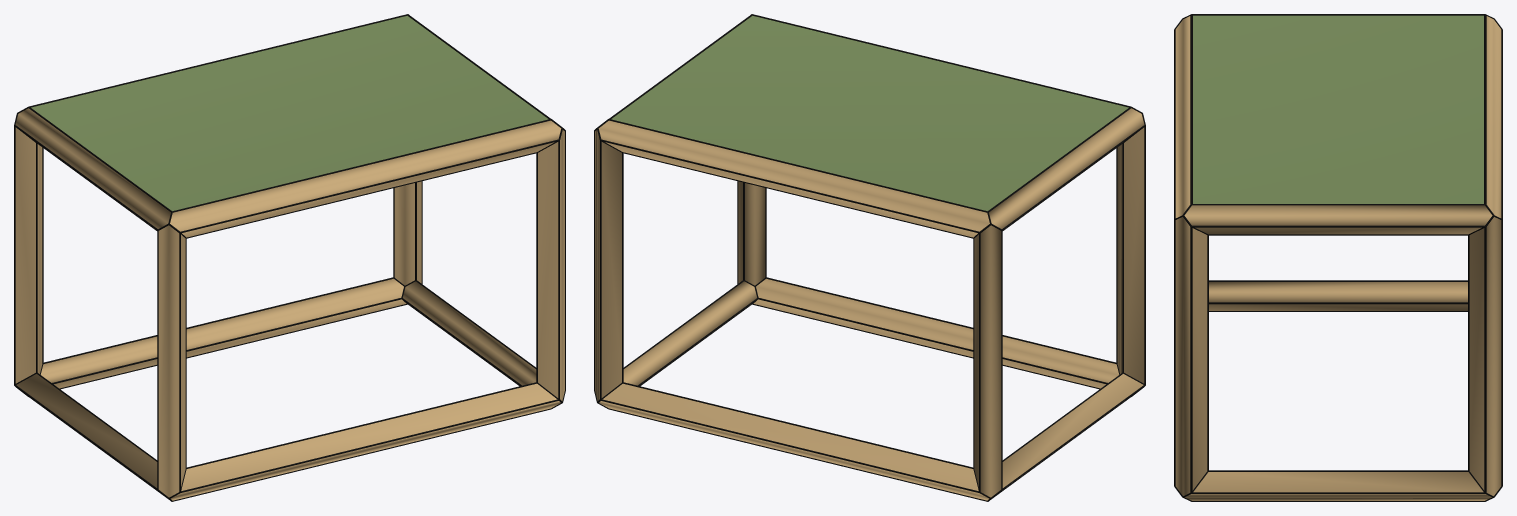
Rendered from 010-coffre.glb.
3 views of the same model, side by side, from view 1: azimuth 30°, elevation 25°; view 2: azimuth 150°, elevation 25°; view 3: azimuth 270°, elevation 25° (orthographic). The views are drawn at different scales.
Parts seen in each view (by area): view 1: panneau-dessus_exterieur, arete-X2, arete-X0, arete-X1, arete-Z0, arete-Z2, arete-Z1, arete-Y2, arete-Y0, arete-Y1, arete-Z3, arete-wire-X0 (+9 smaller); view 2: panneau-dessus_exterieur, arete-X3, arete-X1, arete-X0, arete-Z2, arete-Z0, arete-Z3, arete-Y2, arete-Y0, arete-Y1, arete-Z1, arete-wire-X1 (+9 smaller); view 3: panneau-dessus_exterieur, arete-Y3, arete-Z1, arete-Z3, arete-Y1, arete-Y0, arete-X2, arete-X3, arete-wire-Y3, arete-wire-Z1, arete-wire-Z3, arete-wire-Y0 (+4 smaller).
Boxes of the visible parts, <box> form: panneau-dessus_exterieur: <box>31,15,548,211</box>; arete-X2: <box>170,120,561,237</box>; arete-X0: <box>170,383,560,500</box>; arete-X1: <box>40,278,406,388</box>; arete-Z0: <box>158,225,185,497</box>; arete-Z2: <box>15,127,42,383</box>; arete-Z1: <box>538,130,564,400</box>; arete-Y2: <box>15,108,170,228</box>; arete-Y0: <box>16,374,157,487</box>; arete-Y1: <box>403,281,536,385</box>; arete-Z3: <box>394,181,421,285</box>; arete-wire-X0: <box>168,382,562,501</box>; panneau-dessus_exterieur: <box>611,15,1128,211</box>; arete-X3: <box>598,120,989,237</box>; arete-X1: <box>599,383,989,500</box>; arete-X0: <box>753,278,1119,388</box>; arete-Z2: <box>974,225,1001,497</box>; arete-Z0: <box>1117,127,1144,383</box>; arete-Z3: <box>595,130,621,400</box>; arete-Y2: <box>989,108,1144,228</box>; arete-Y0: <box>1002,374,1143,487</box>; arete-Y1: <box>623,281,756,385</box>; arete-Z1: <box>738,181,765,285</box>; arete-wire-X1: <box>597,382,990,501</box>; panneau-dessus_exterieur: <box>1193,15,1483,203</box>; arete-Y3: <box>1184,205,1492,234</box>; arete-Z1: <box>1175,217,1207,495</box>; arete-Z3: <box>1469,217,1501,495</box>; arete-Y1: <box>1185,472,1491,500</box>; arete-Y0: <box>1209,282,1467,310</box>; arete-X2: <box>1175,16,1190,217</box>; arete-X3: <box>1486,16,1501,217</box>; arete-wire-Y3: <box>1191,204,1493,235</box>; arete-wire-Z1: <box>1174,215,1208,493</box>; arete-wire-Z3: <box>1468,220,1502,493</box>; arete-wire-Y0: <box>1209,280,1467,311</box>.
Size of the model in its own units: 0.6238 by 0.4238 by 0.4238.
